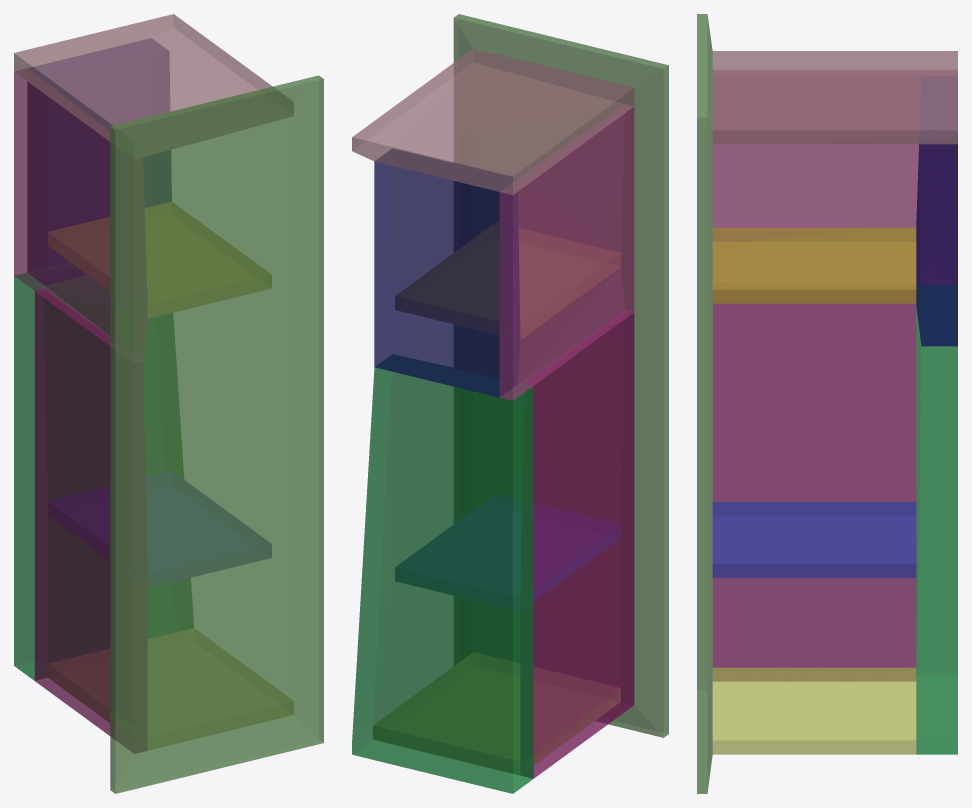
Rendered from IslandArea.obj.
The picture shows the model from 3 angles, left to right: view 1: azimuth 30°, elevation 25°; view 2: azimuth 150°, elevation 25°; view 3: azimuth 270°, elevation 25°; orthographic projection.
Visible parts, largest first — view 1: Shape_IndexedFaceSet_Shape_IndexedFaceSet.281; view 2: Shape_IndexedFaceSet_Shape_IndexedFaceSet.281; view 3: Shape_IndexedFaceSet_Shape_IndexedFaceSet.281.
Boxes of the visible parts, x1,y1,x2,y2 form: Shape_IndexedFaceSet_Shape_IndexedFaceSet.281: (14, 14, 323, 793); Shape_IndexedFaceSet_Shape_IndexedFaceSet.281: (352, 14, 668, 793); Shape_IndexedFaceSet_Shape_IndexedFaceSet.281: (697, 14, 957, 793).
Size of the model in its own units: 0.8109 by 2.47 by 0.8627.
